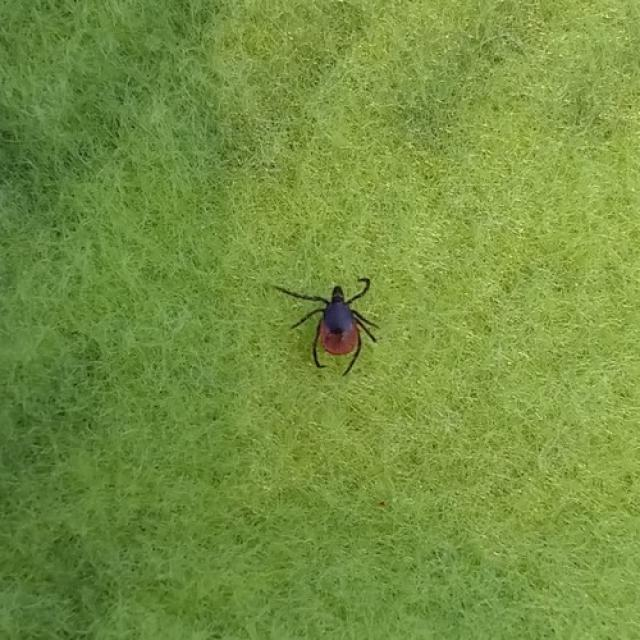Ixodes Ricinus-F: (283, 278, 379, 379)
